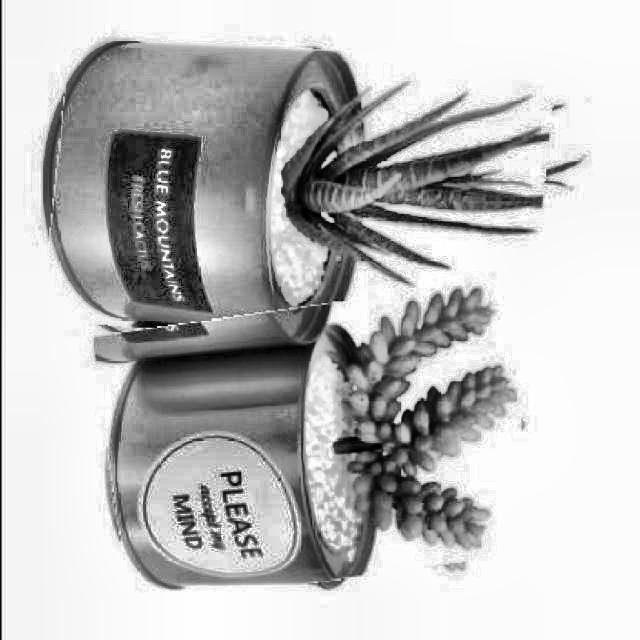plants: (47, 38, 547, 356), (100, 294, 528, 595)
